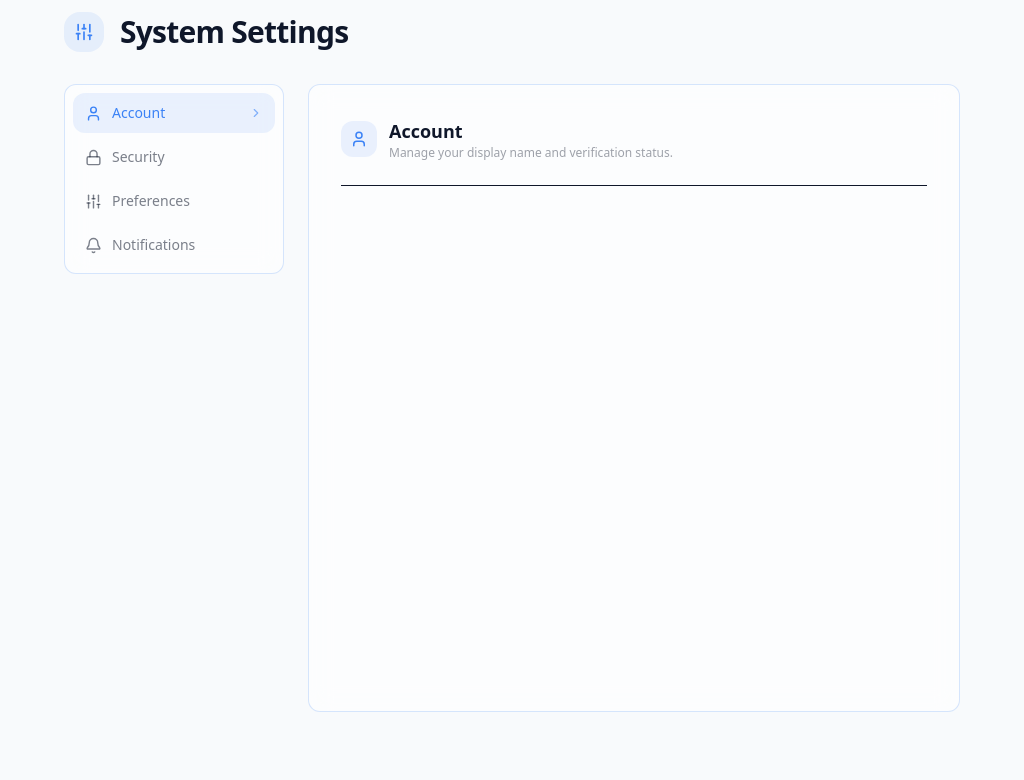
SettingsPage › shows saved theme and locale in preferences without applying theme on mount
Expected: the heading "System Settings" is shown, [120,14,348,50]
Click the button "Preferences".
click(174, 201)  # box [73,181,275,221]
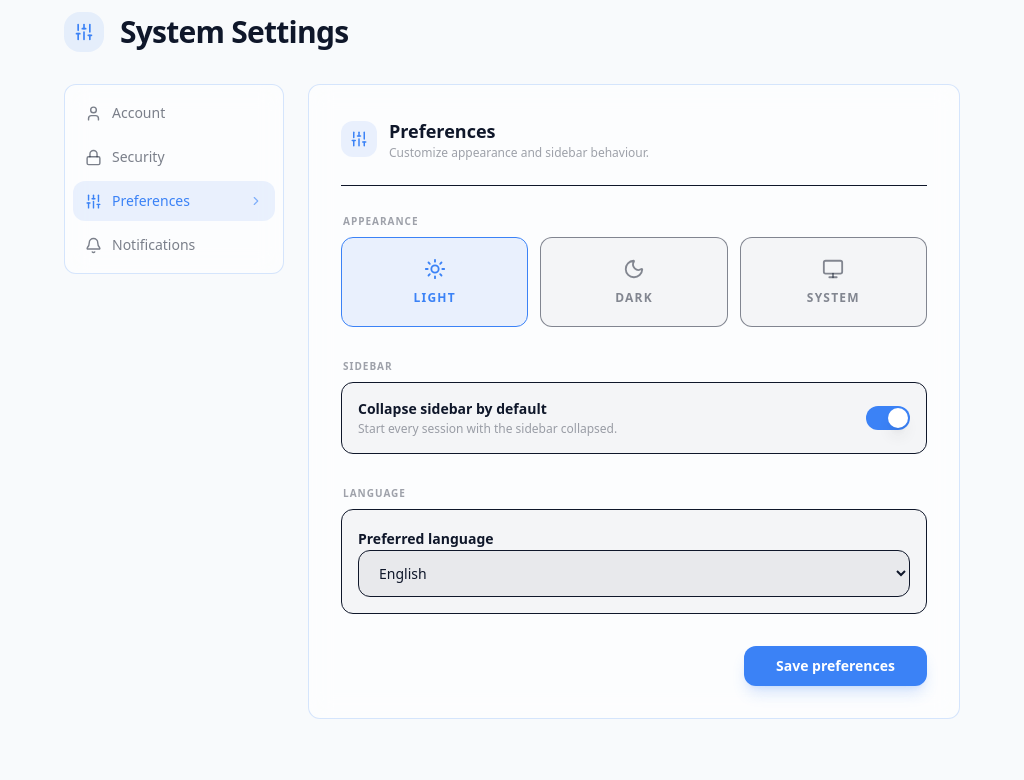
Expected: the text "Appearance" is shown, [343,214,419,228]
Expected: the dropdown labelled "Preferred language" shows "English", [358,550,910,597]
